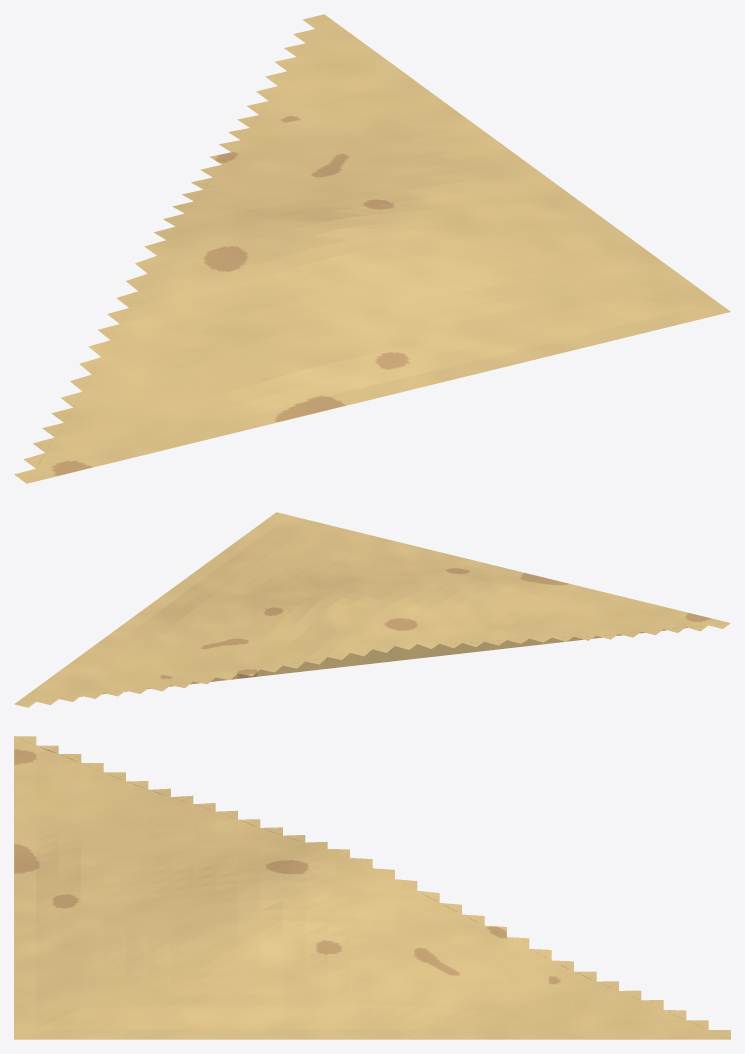
The model's file is Desert_Flat_10_NE.obj.
3 renders of one model, top to bottom at view 1: azimuth 30°, elevation 25°; view 2: azimuth 150°, elevation 25°; view 3: azimuth 270°, elevation 25°, orthographic. The views are drawn at different scales.
Bounding box in the file's own units: 10 × 0.4014 × 10.
1 material, 1 textured.
